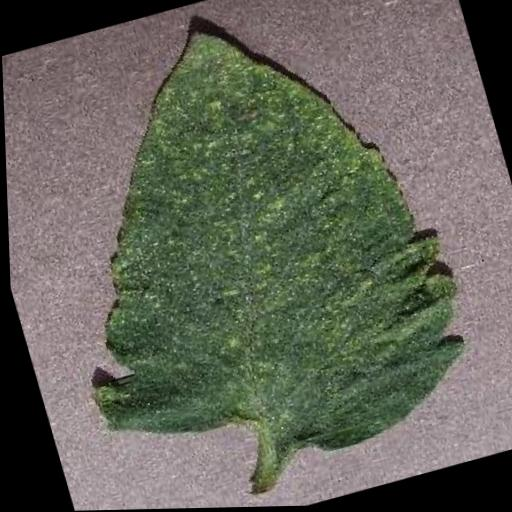Spider Mites: (0, 0, 497, 512)
